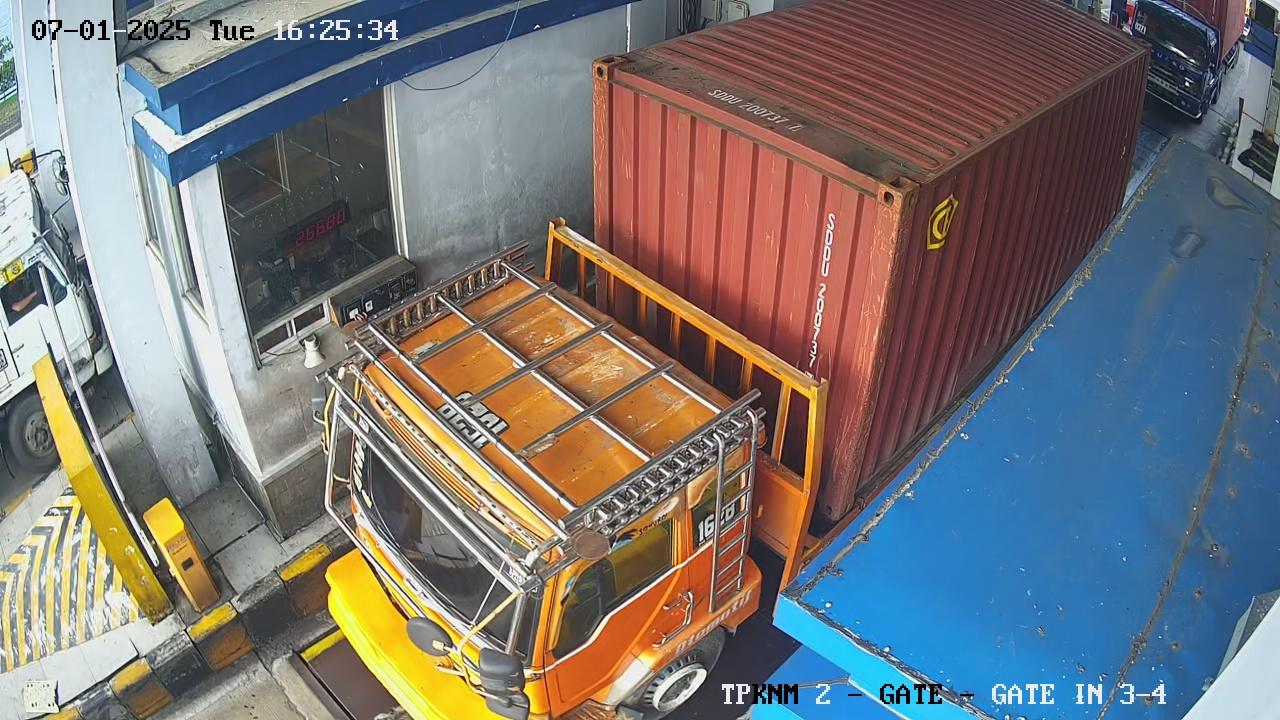Container_ID: (687, 79, 826, 145)
Container_ID_Vertikal: (789, 207, 861, 392)
